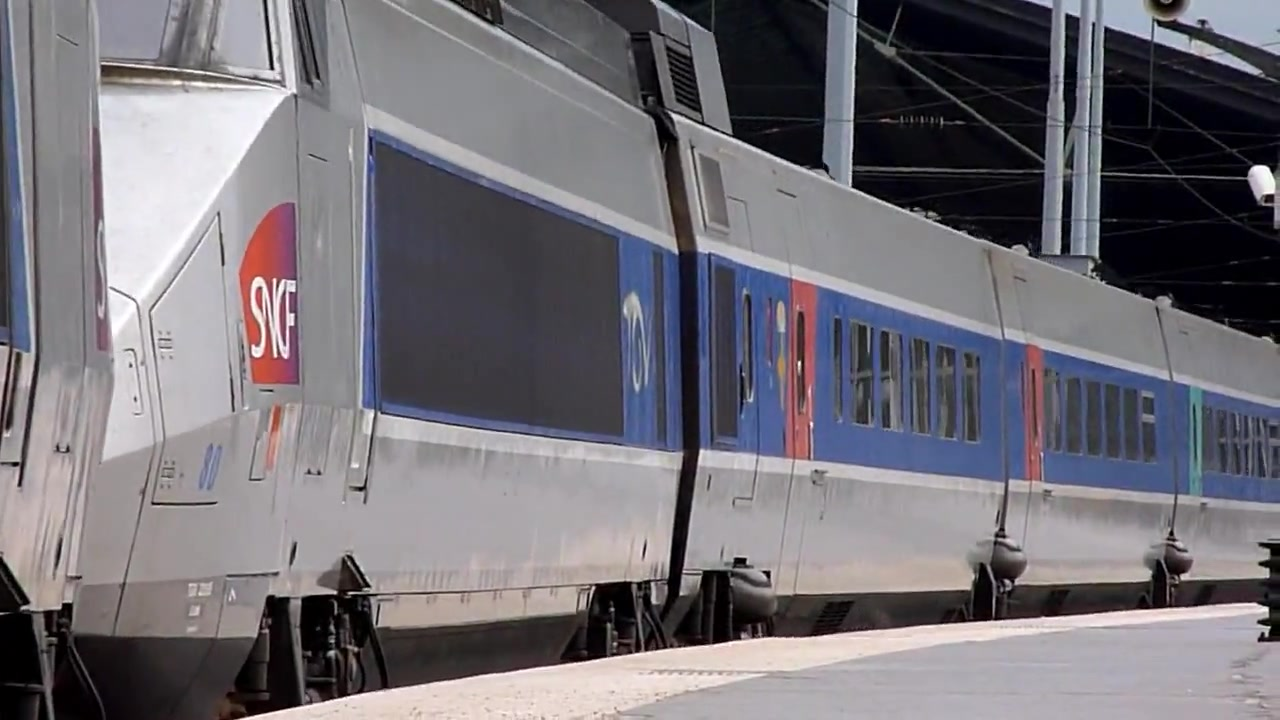train: (1, 1, 1280, 706)
